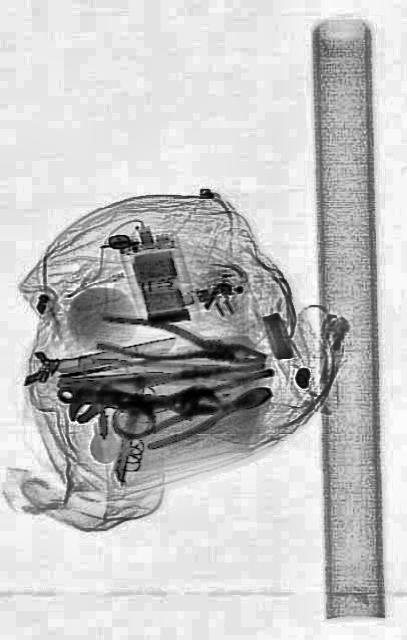Pliers: (95, 309, 267, 376), (142, 376, 272, 452)
